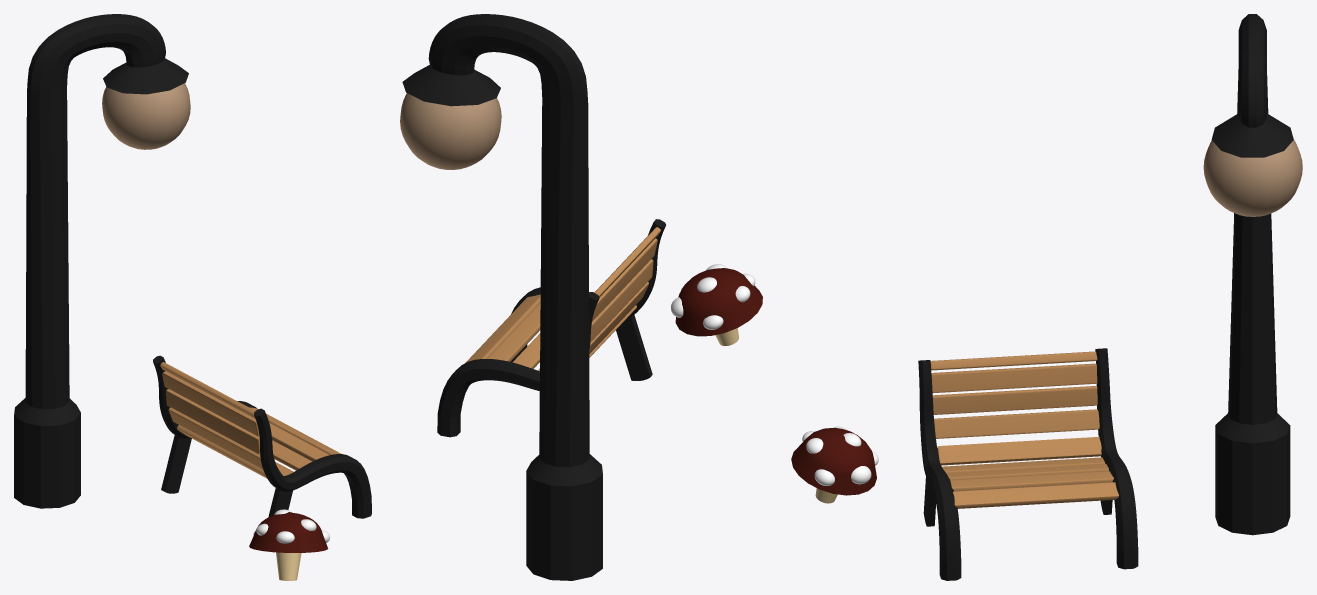
File: Three Objects.obj
3 renders of one model, left to right at view 1: azimuth 30°, elevation 25°; view 2: azimuth 150°, elevation 25°; view 3: azimuth 270°, elevation 25°, orthographic. The views are drawn at different scales.
Parts seen in each view (by area): view 1: Lamp Lamp, Lamp Light, Seat pCube7 Sides, Shroom Mushroom2 Shrooms, Seat Sides pCube8, Seat Plank7, Seat Plank6, Seat Plank8, Seat Plank4, Seat Plank5, Plank1 Seat, Seat Plank3 (+1 smaller); view 2: Lamp Lamp, Lamp Light, Shroom Mushroom2 Shrooms, Seat Sides pCube8, Seat pCube7 Sides, Seat Plank7, Seat Plank9, Seat Plank4, Seat Plank6, Seat Plank5, Seat Plank8, Seat Plank3; view 3: Lamp Lamp, Lamp Light, Seat pCube7 Sides, Seat Sides pCube8, Shroom Mushroom2 Shrooms, Seat Plank6, Seat Plank8, Seat Plank7, Plank1 Seat, Seat Plank9, Seat Plank4, Seat Plank5 (+2 smaller).
Part boxes in pixels (box(x1,y1,x2,y2)): Lamp Lamp: box(14, 14, 188, 508); Lamp Light: box(102, 83, 190, 149); Seat pCube7 Sides: box(254, 408, 371, 518); Shroom Mushroom2 Shrooms: box(249, 512, 328, 580); Seat Sides pCube8: box(153, 355, 257, 493); Seat Plank7: box(166, 389, 260, 454); Seat Plank6: box(162, 371, 259, 436); Seat Plank8: box(168, 407, 262, 469); Seat Plank4: box(269, 423, 329, 461); Seat Plank5: box(160, 362, 255, 418); Plank1 Seat: box(177, 425, 266, 478); Seat Plank3: box(272, 440, 311, 470); Lamp Lamp: box(402, 14, 602, 580); Lamp Light: box(400, 93, 501, 169); Shroom Mushroom2 Shrooms: box(675, 268, 762, 345); Seat Sides pCube8: box(437, 292, 599, 437); Seat pCube7 Sides: box(511, 219, 665, 380); Seat Plank7: box(590, 259, 653, 342); Seat Plank9: box(465, 294, 540, 362); Seat Plank4: box(487, 303, 540, 361); Seat Plank6: box(592, 238, 657, 321); Seat Plank5: box(594, 227, 660, 297); Seat Plank8: box(589, 282, 648, 353); Seat Plank3: box(512, 333, 540, 368); Lamp Lamp: box(1211, 14, 1293, 535); Lamp Light: box(1203, 140, 1302, 216); Seat pCube7 Sides: box(918, 360, 961, 580); Seat Sides pCube8: box(1095, 348, 1138, 569); Shroom Mushroom2 Shrooms: box(791, 427, 876, 503); Seat Plank6: box(931, 363, 1097, 393); Seat Plank8: box(934, 409, 1099, 438); Seat Plank7: box(932, 386, 1097, 414); Plank1 Seat: box(937, 437, 1101, 465); Seat Plank9: box(953, 482, 1118, 508); Seat Plank4: box(950, 471, 1113, 491); Seat Plank5: box(930, 351, 1097, 370).
Bounding box in the file's own units: 5.59 × 11.51 × 10.31.
